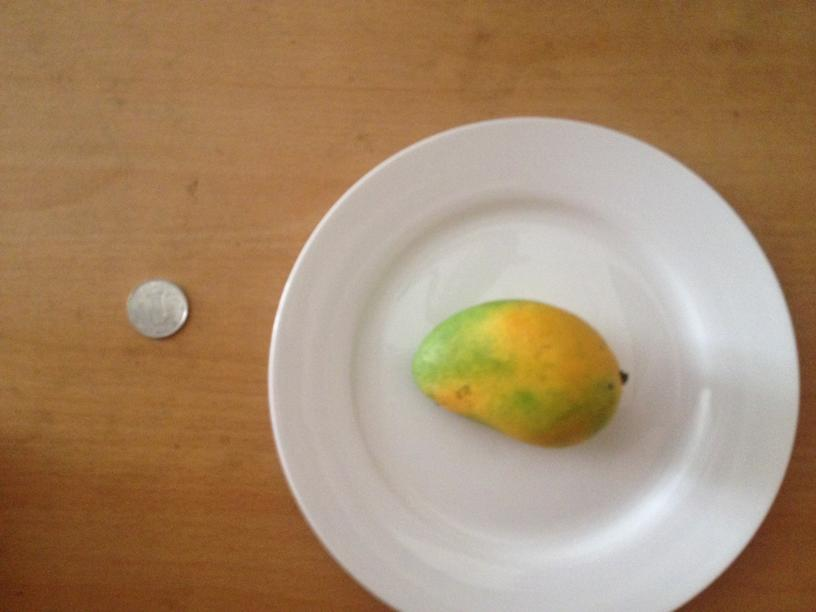coin: (126, 279, 188, 339)
mango: (409, 298, 620, 448)
